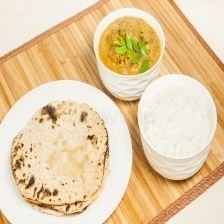roti: (10, 99, 112, 218)
